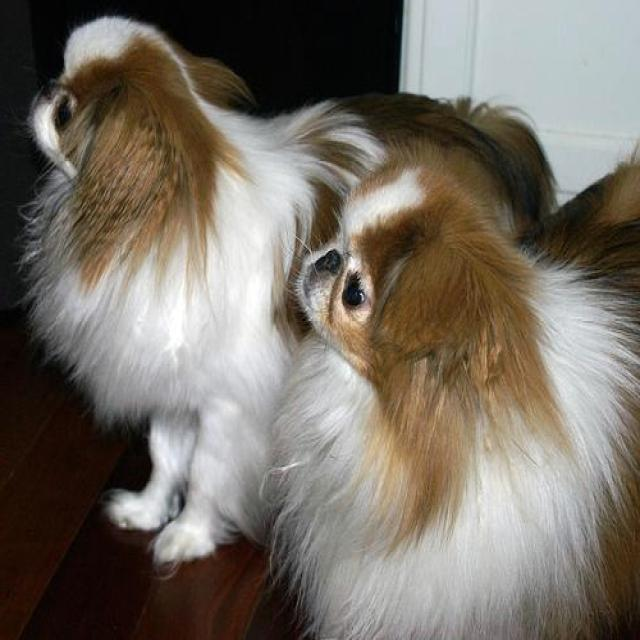husky: (8, 7, 556, 565), (264, 132, 640, 637)
